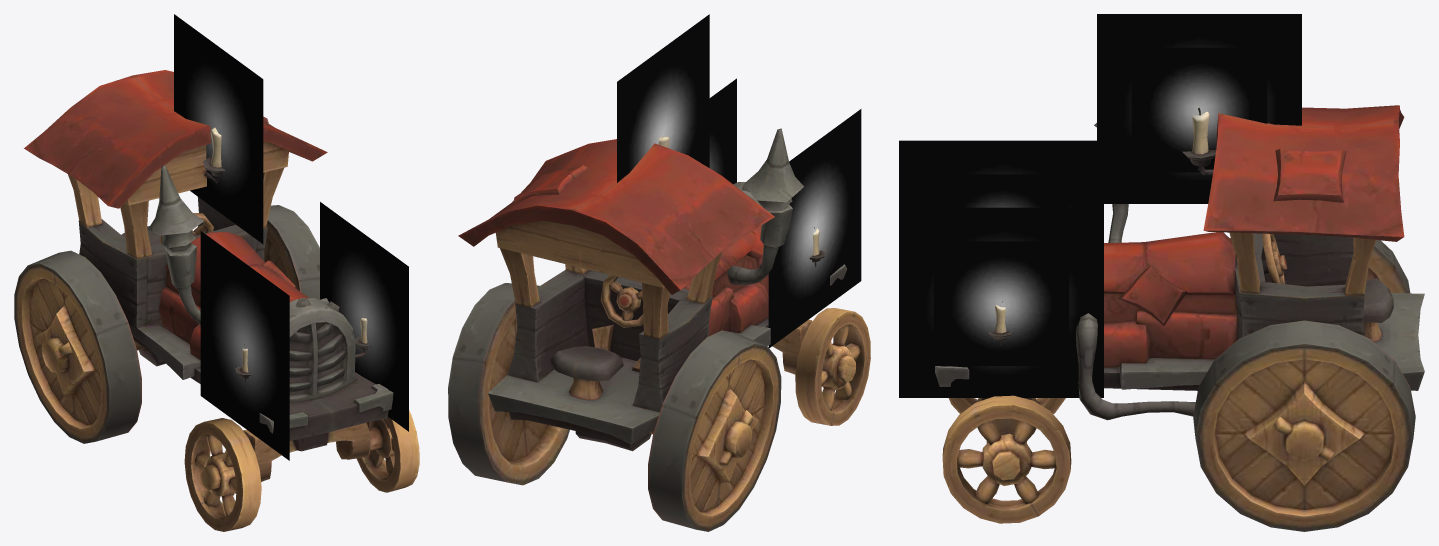
3 views of the same model, side by side, from view 1: azimuth 30°, elevation 25°; view 2: azimuth 150°, elevation 25°; view 3: azimuth 270°, elevation 25° (orthographic). The views are drawn at different scales.
Bounding box in the file's own units: 2.46 × 3.74 × 3.88.
3 materials, 3 textured.
